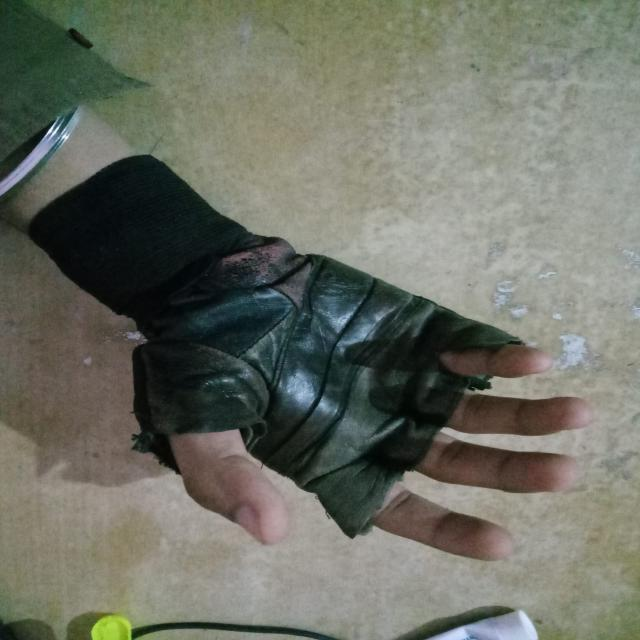gloved_hand: (44, 161, 553, 555)
